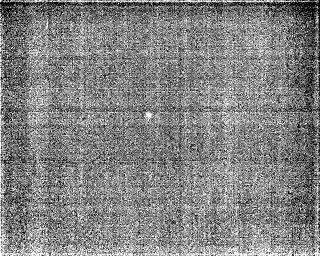BIRD: (144, 109, 154, 121)
